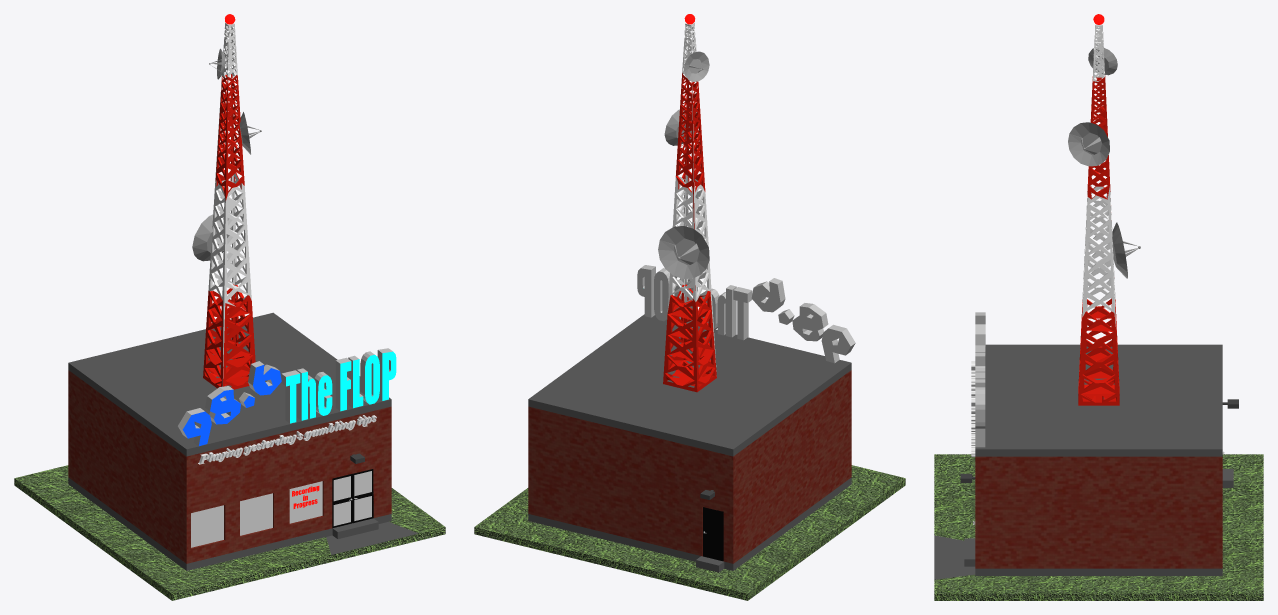
Rendered from Radio Station.glb.
3 views of the same model, side by side, from view 1: azimuth 30°, elevation 25°; view 2: azimuth 150°, elevation 25°; view 3: azimuth 270°, elevation 25° (orthographic). The views are drawn at different scales.
Visible parts, largest first — view 1: Walls, Flr & Roof, Ground, Tower, Sign, Windows, Doors, Text.002, Satellite.001; view 2: Walls, Flr & Roof, Ground, Tower, Sign, Satellite.001, Door; view 3: Walls, Flr & Roof, Ground, Tower, Satellite.001, Sign, Text.002.
Part boxes in pixels (bbox=[...]): Walls: bbox=[68, 370, 391, 563]; Flr & Roof: bbox=[68, 312, 391, 570]; Ground: bbox=[14, 465, 445, 600]; Tower: bbox=[203, 22, 255, 389]; Sign: bbox=[178, 348, 396, 446]; Windows: bbox=[191, 481, 322, 547]; Doors: bbox=[332, 469, 373, 528]; Text.002: bbox=[198, 415, 376, 508]; Satellite.001: bbox=[192, 48, 261, 261]; Walls: bbox=[528, 370, 851, 563]; Flr & Roof: bbox=[528, 314, 851, 572]; Ground: bbox=[474, 465, 905, 600]; Tower: bbox=[663, 22, 716, 392]; Sign: bbox=[637, 265, 855, 363]; Satellite.001: bbox=[658, 51, 709, 278]; Door: bbox=[703, 507, 723, 561]; Walls: bbox=[975, 456, 1222, 568]; Flr & Roof: bbox=[964, 344, 1233, 575]; Ground: bbox=[934, 454, 1263, 600]; Tower: bbox=[1078, 24, 1119, 405]; Satellite.001: bbox=[1068, 48, 1140, 278]; Sign: bbox=[975, 312, 985, 447]; Text.002: bbox=[971, 361, 975, 456].
Size of the model in its own units: 12.19 by 21.1 by 12.19.
18 materials, 2 textured.
